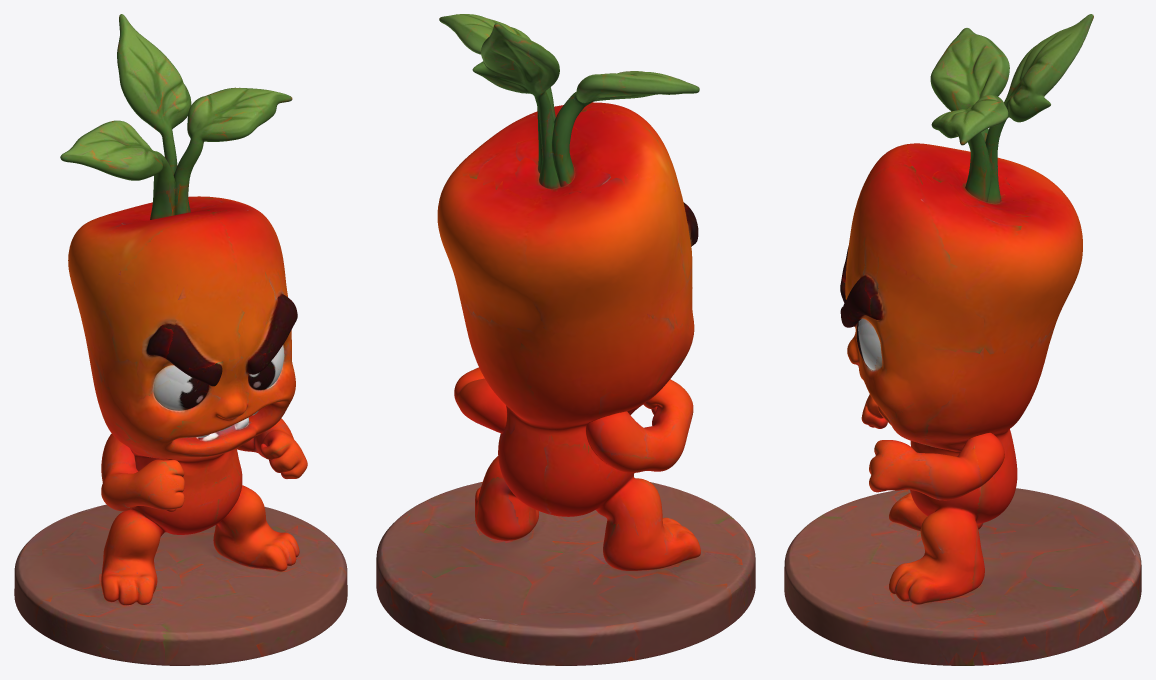
The model's file is plant_burst.glb.
3 renders of one model, left to right at view 1: azimuth 30°, elevation 25°; view 2: azimuth 150°, elevation 25°; view 3: azimuth 270°, elevation 25°, orthographic. The views are drawn at different scales.
Bounding box in the file's own units: 1.07 × 1.9 × 1.07.
Materials: 1 (1 with a texture image).
